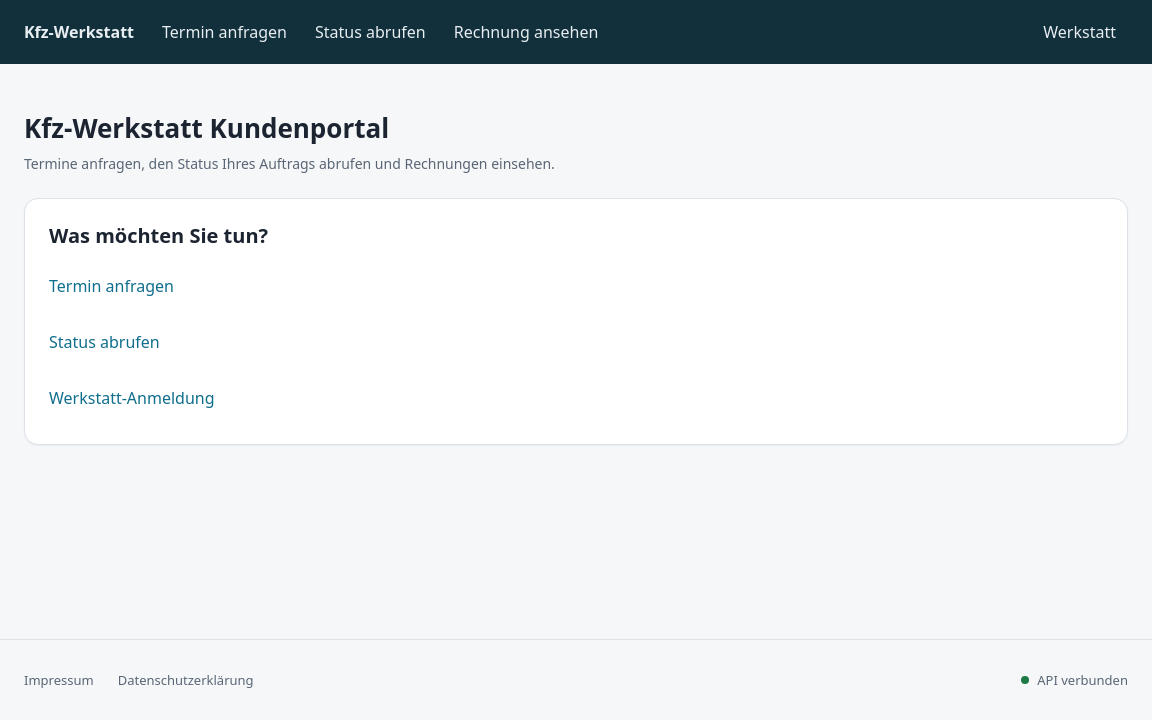
it: legal pages › navigates to the Impressum from the footer link
Click the link "Impressum" at x=59, y=680, box left=24, top=671, right=94, bottom=689
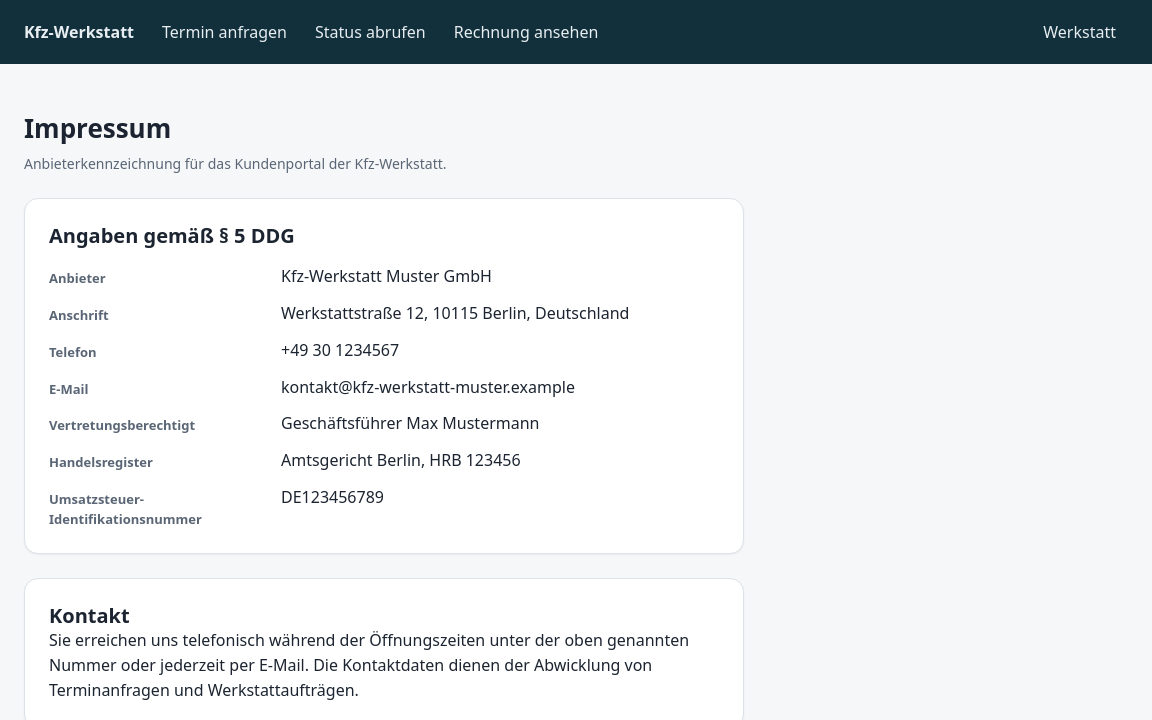
Now the heading "Impressum" is shown, box left=24, top=110, right=171, bottom=146
